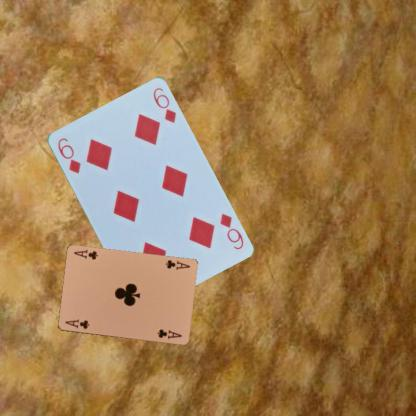6d: (217, 210, 245, 251), (54, 135, 82, 175)
Ac: (163, 257, 191, 271), (63, 317, 90, 330)
